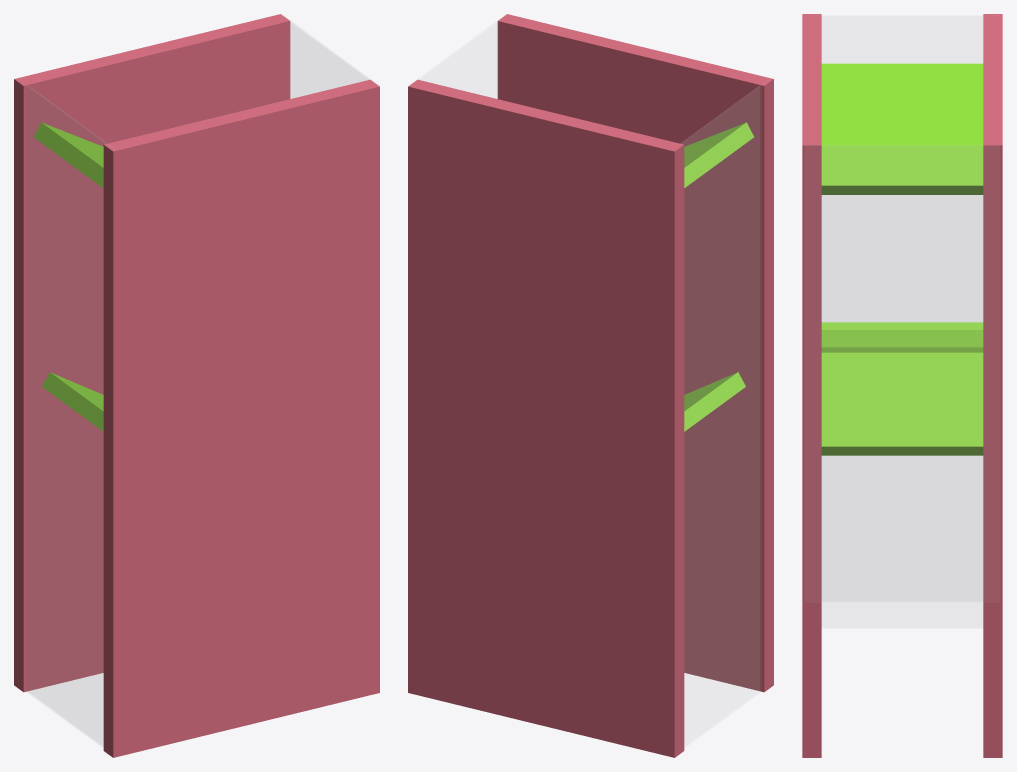
The model's file is diceTower.fbx.
The picture shows the model from 3 angles, left to right: view 1: azimuth 30°, elevation 25°; view 2: azimuth 150°, elevation 25°; view 3: azimuth 270°, elevation 25°; orthographic projection.
Parts seen in each view (by area): view 1: Cube, Cube.001, Cube.006, Cube.005, Cube.002, Cube.004; view 2: Cube.001, Cube, Cube.006, Cube.005, Cube.002, Cube.004; view 3: Cube.005, Cube.006, Cube.002, Cube.004, Cube, Cube.001, Cube.003.
Part boxes in pixels (box(x1,y1,x2,y2)): Cube: box(103, 79, 379, 757); Cube.001: box(14, 14, 290, 692); Cube.006: box(27, 86, 106, 746); Cube.005: box(290, 21, 369, 98); Cube.002: box(34, 122, 103, 187); Cube.004: box(42, 372, 103, 431); Cube.001: box(408, 79, 684, 757); Cube: box(497, 14, 773, 692); Cube.006: box(681, 86, 760, 746); Cube.005: box(418, 18, 500, 98); Cube.002: box(684, 122, 753, 187); Cube.004: box(684, 372, 745, 431); Cube.005: box(822, 145, 982, 601); Cube.006: box(822, 16, 982, 627); Cube.002: box(821, 63, 983, 194); Cube.004: box(821, 322, 983, 455); Cube: box(802, 14, 821, 757); Cube.001: box(983, 14, 1002, 757); Cube.003: box(821, 330, 983, 352).
Size of the model in its own units: 801 by 1734 by 514.
